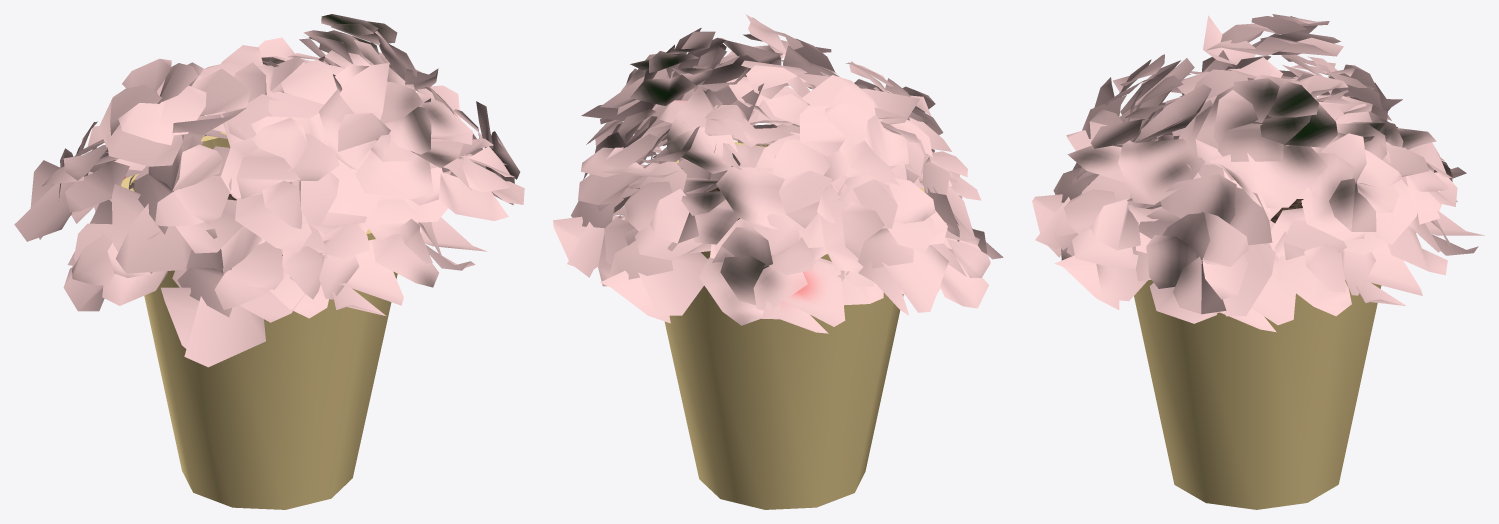
Rendered from RY_PotSmall.fbx.
3 renders of one model, left to right at view 1: azimuth 30°, elevation 25°; view 2: azimuth 150°, elevation 25°; view 3: azimuth 270°, elevation 25°, orthographic. The views are drawn at different scales.
Parts seen in each view (by area): view 1: PotSmall; view 2: PotSmall; view 3: PotSmall.
Part boxes in pixels (left/top/right/bottom): PotSmall: left=14, top=14, right=524, bottom=509; PotSmall: left=553, top=14, right=1003, bottom=509; PotSmall: left=1032, top=14, right=1484, bottom=509.
Bounding box in the file's own units: 0.478 × 0.472 × 0.45.
